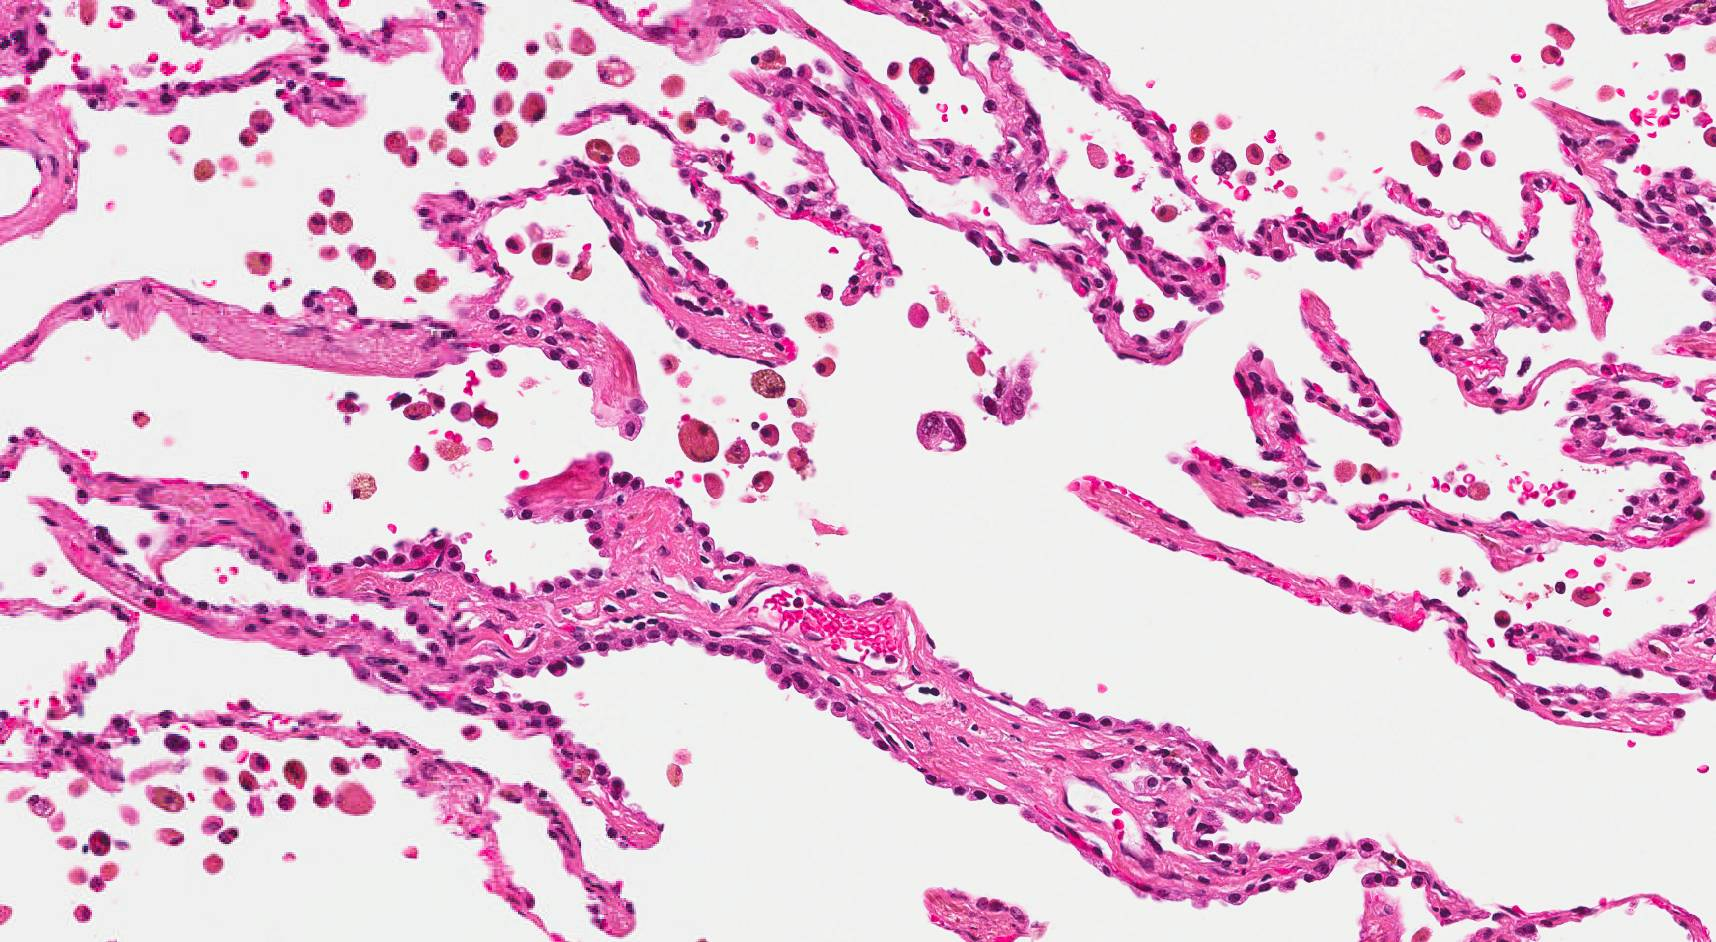stas: (978, 354, 1039, 428), (913, 406, 971, 455)
